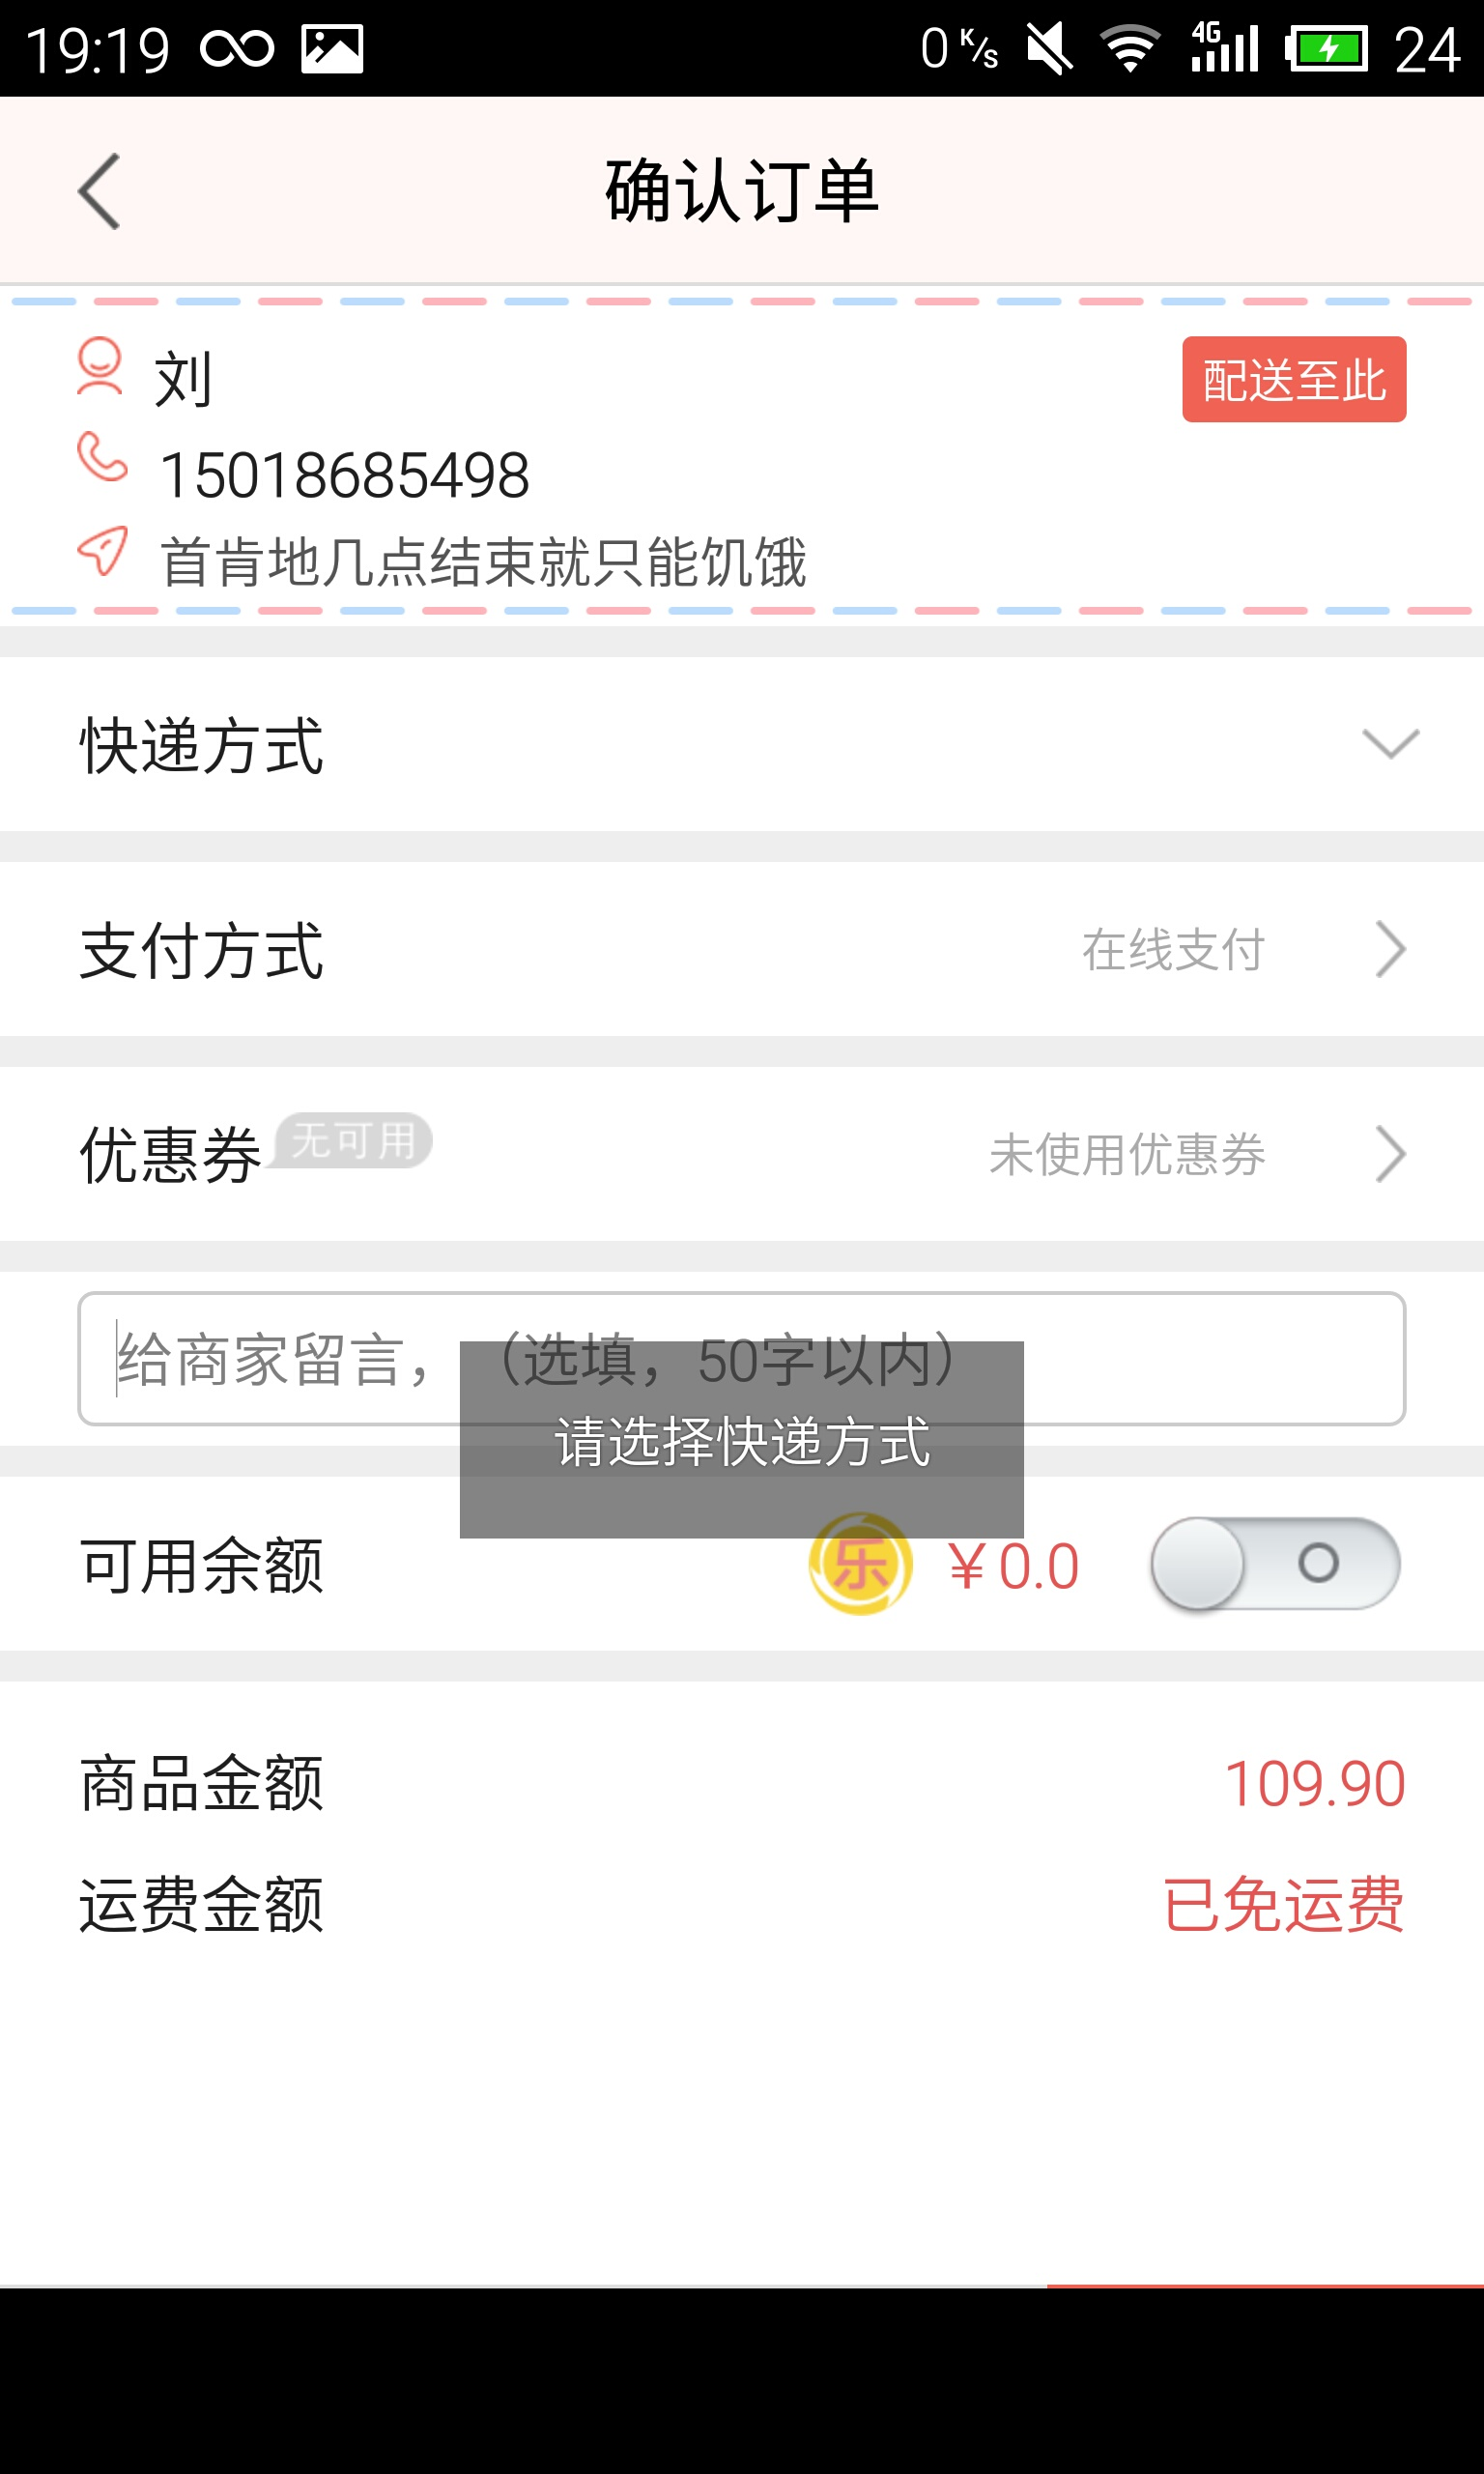alert: (449, 1336, 1048, 1537)
button: (1166, 323, 1426, 431)
radiobutton: (1122, 1502, 1424, 1626)
textview: (9, 101, 1484, 292), (9, 657, 1484, 843), (9, 868, 1479, 1046), (12, 1085, 1484, 1249), (55, 1288, 1447, 1449)
